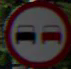No overtake: (8, 4, 65, 59)
